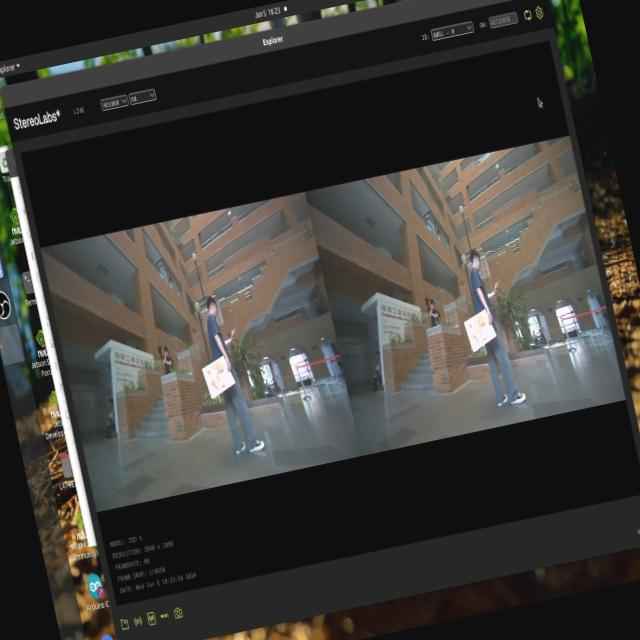red: (186, 354, 234, 398), (466, 313, 501, 351)
